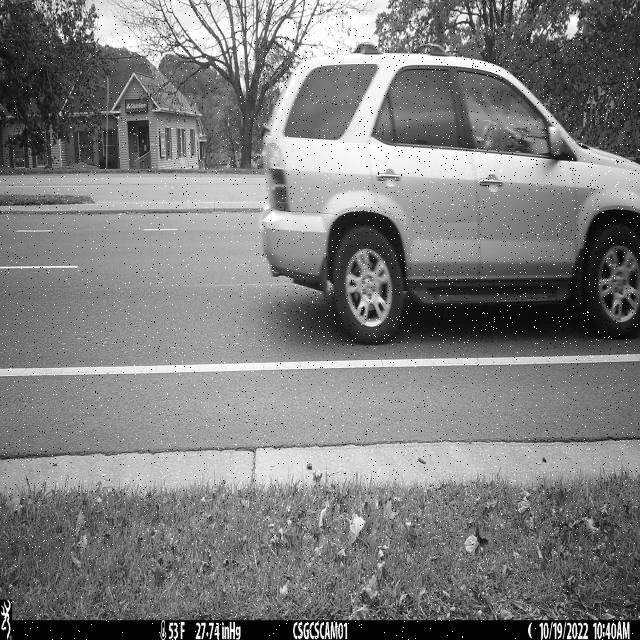SUV: (259, 42, 640, 346)
